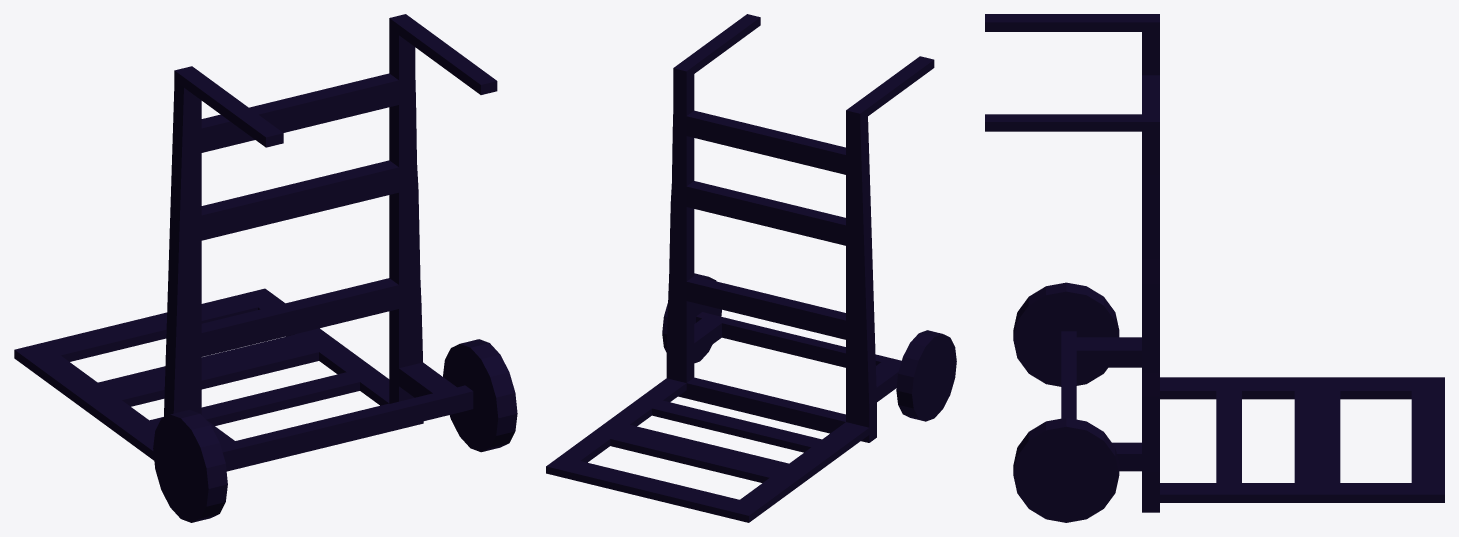
File: MESH_PROP_Carrinho_de_Mao.fbx
The picture shows the model from 3 angles, left to right: view 1: azimuth 30°, elevation 25°; view 2: azimuth 150°, elevation 25°; view 3: azimuth 270°, elevation 25°; orthographic projection. The views are drawn at different scales.
Parts seen in each view (by area): view 1: Carrinho_de_Mao; view 2: Carrinho_de_Mao; view 3: Carrinho_de_Mao.
Part boxes in pixels (x1,y1,x2,y2): Carrinho_de_Mao: (14,14,517,522); Carrinho_de_Mao: (546,14,956,522); Carrinho_de_Mao: (985,14,1444,522).
Size of the model in its own units: 91.42 by 114 by 123.
